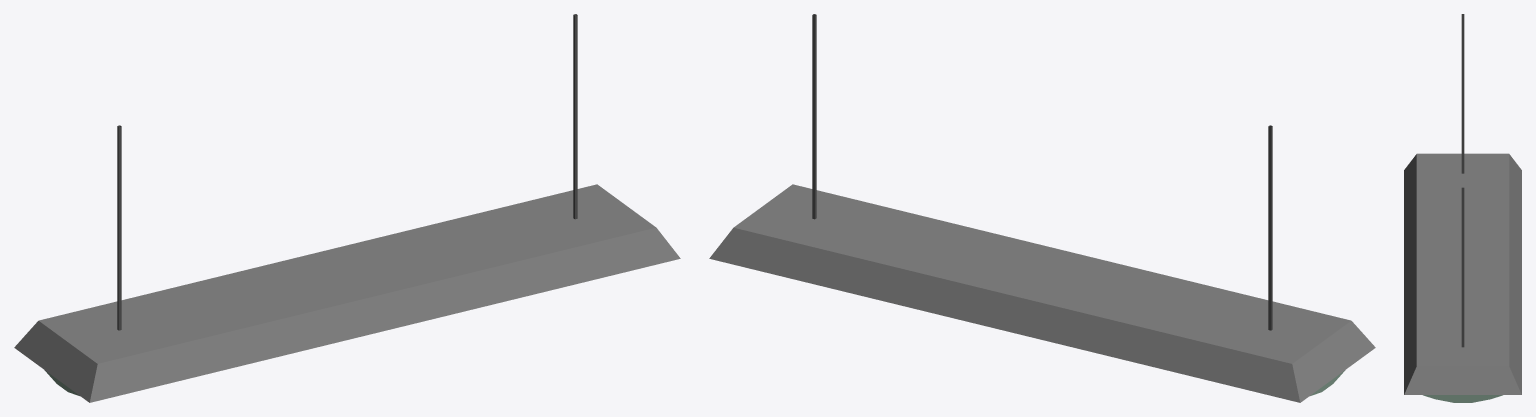
The model's file is Ceiling_Fluorescent_Smooth.fbx.
The picture shows the model from 3 angles, left to right: view 1: azimuth 30°, elevation 25°; view 2: azimuth 150°, elevation 25°; view 3: azimuth 270°, elevation 25°; orthographic projection. The views are drawn at different scales.
Visible parts, largest first — view 1: Ceiling_Fluorescent_Smooth; view 2: Ceiling_Fluorescent_Smooth; view 3: Ceiling_Fluorescent_Smooth.
Boxes of the visible parts, x1,y1,x2,y2 form: Ceiling_Fluorescent_Smooth: (14, 14, 680, 402); Ceiling_Fluorescent_Smooth: (709, 14, 1375, 402); Ceiling_Fluorescent_Smooth: (1404, 14, 1521, 402).
Size of the model in its own units: 104 by 41.55 by 22.95.
